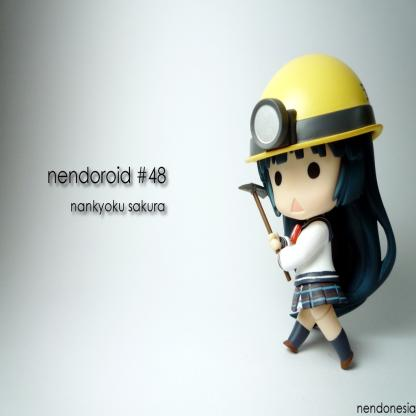Helmet: (257, 57, 380, 181)
